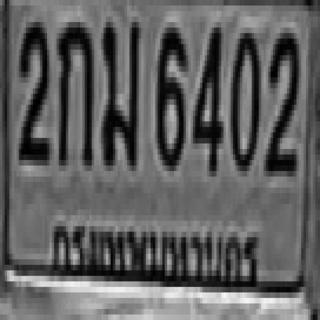A01: (56, 16, 92, 160)
A33: (100, 16, 138, 166)
N00: (228, 28, 259, 166)
N02: (264, 28, 296, 171), (16, 16, 47, 160)
N04: (191, 22, 221, 171)
N06: (155, 22, 184, 166)
P04: (49, 208, 264, 298)
